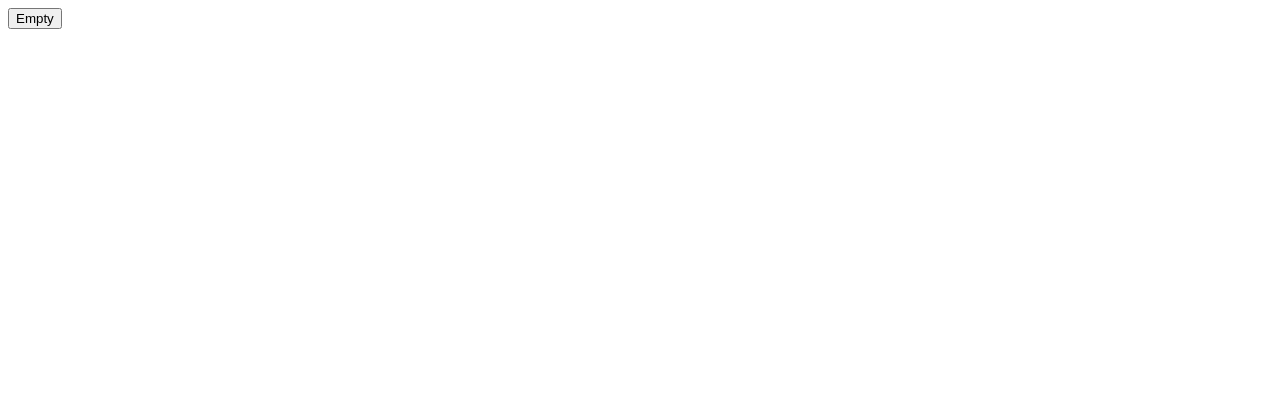
Test: components/viewHeader/filterValue › return date filter value
Step 1. Click the button "Empty" → (35, 18), box [8,8,62,29]
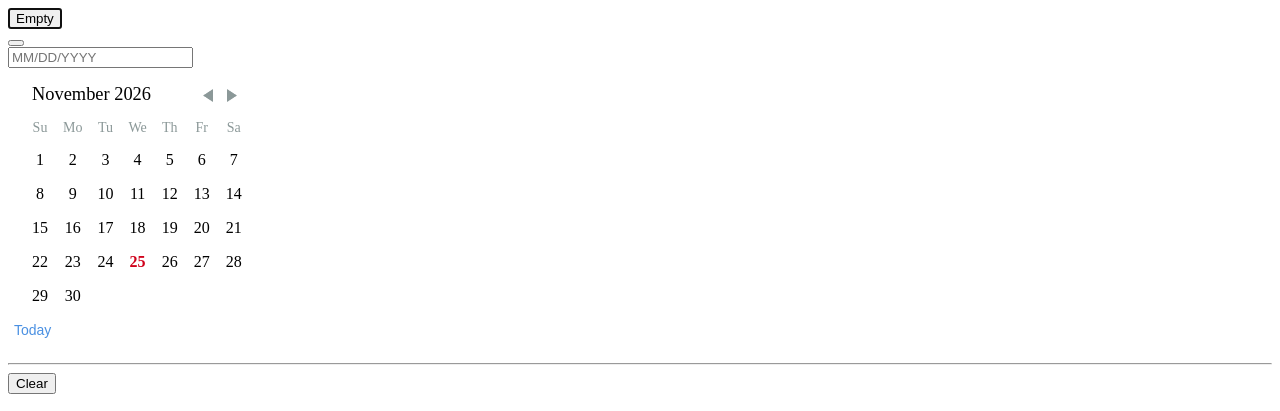
Result: the button "Clear" is shown at [8,373,56,394]
